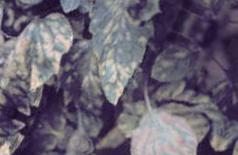Tomato mold leaf: (51, 0, 166, 112), (3, 4, 80, 92), (122, 102, 222, 155)
